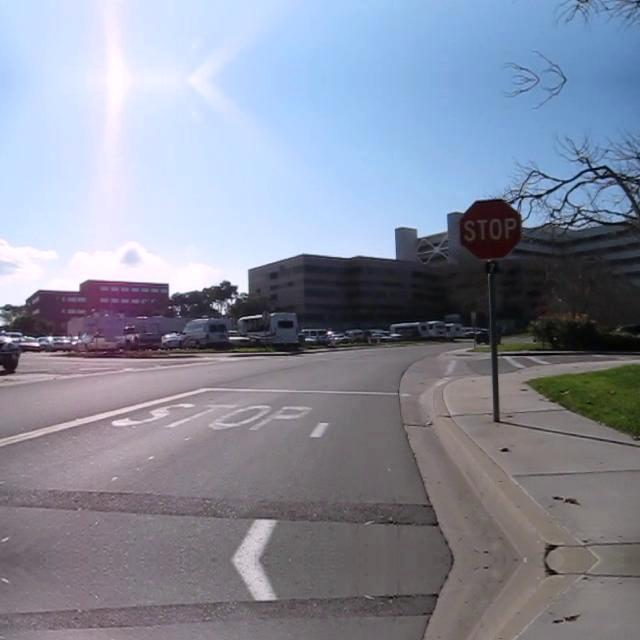stop: (456, 197, 522, 261)
